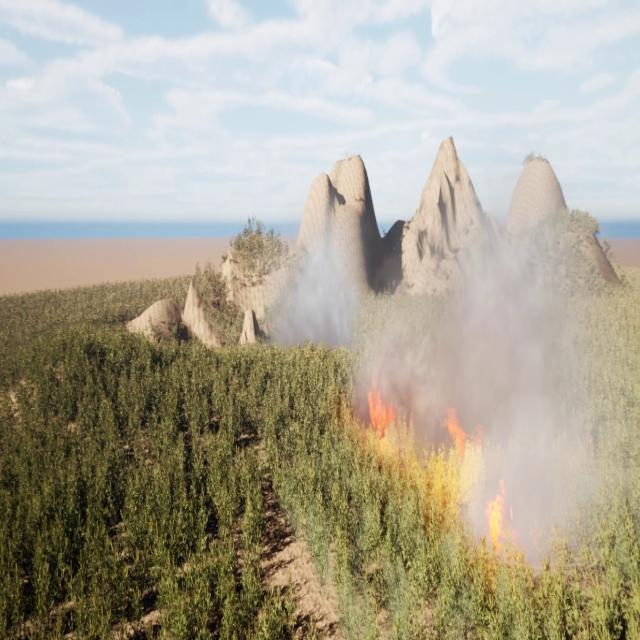fire: (484, 474, 523, 556), (362, 378, 402, 429), (441, 400, 481, 451)
smoke: (353, 184, 633, 578), (260, 214, 366, 350)
